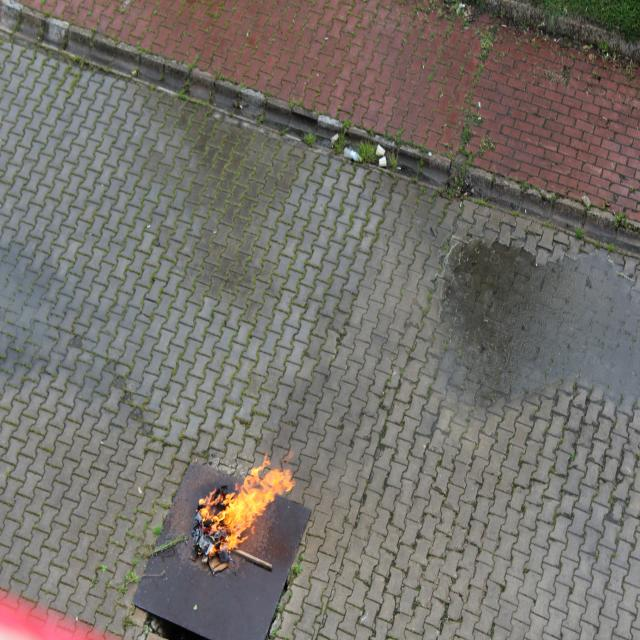fire: (199, 445, 299, 562)
